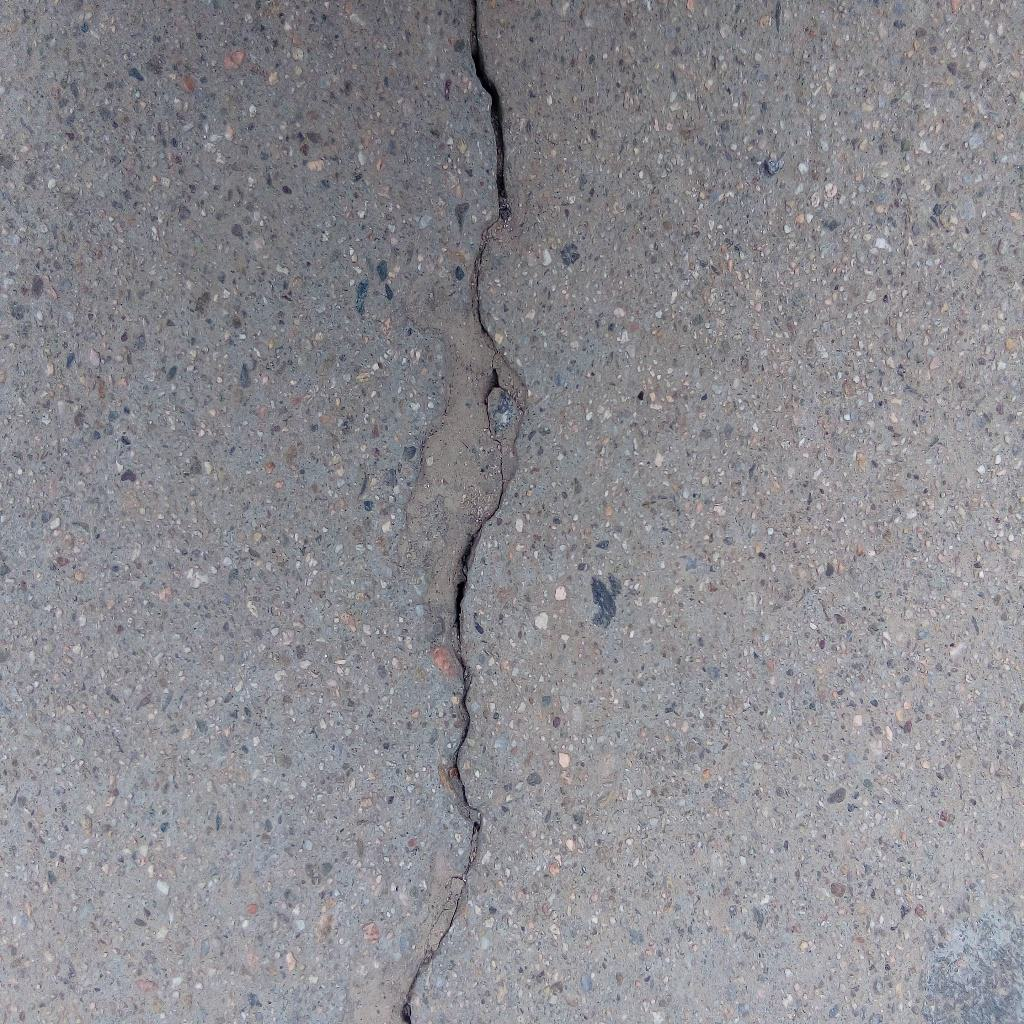Crack: (397, 1, 525, 1024)
